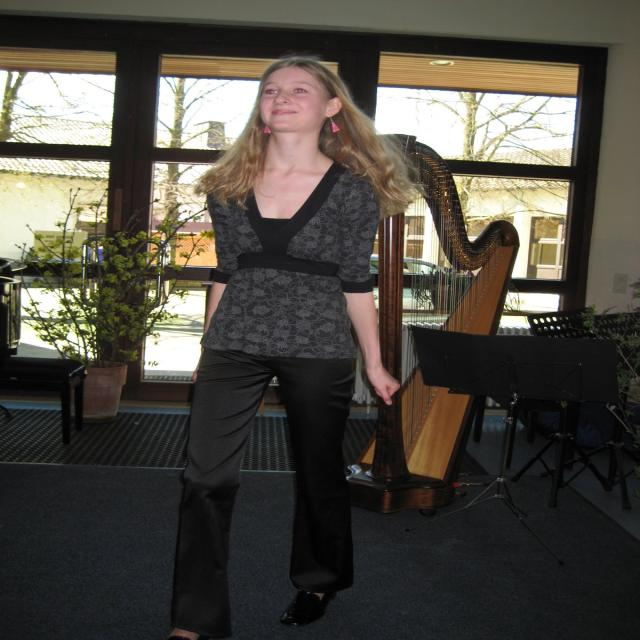harp: (356, 133, 523, 512)
